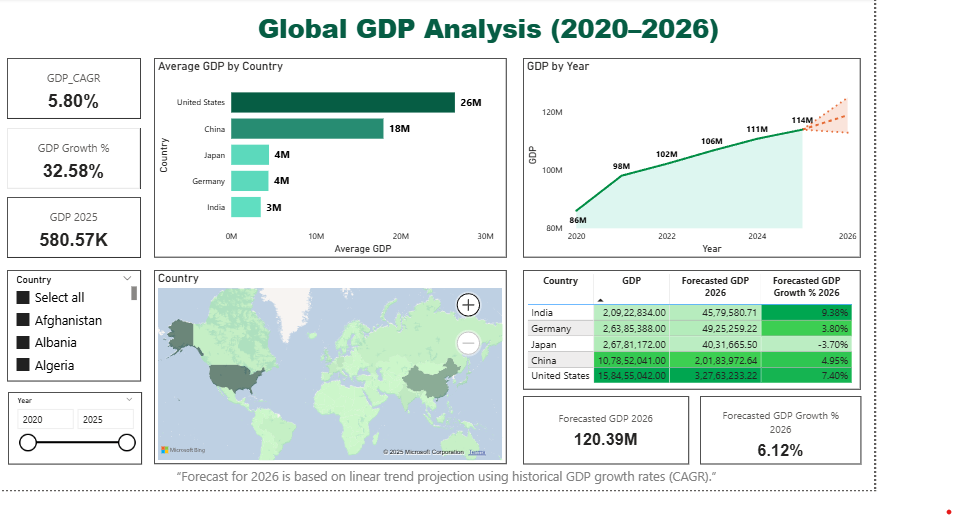

The page's visual inventory and layout, read from the dashboard file:
{"tool":"powerbi","page":{"name":"Dashboard","canvas":[1280,720],"ordinal":0},"visuals":[{"type":"slicer","fields":{"Values":["GDP.Country"]},"box":[9.6,397.9,196.2,163.3],"z":0},{"type":"filledMap","fields":{"Category":["GDP.Country"]},"box":[225,397.9,516,284],"z":1000},{"type":"slicer","fields":{"Values":["GDP.Year.Variation.Date Hierarchy.Year1"]},"box":[11,576.3,196.2,105.7],"z":2000},{"type":"textbox","box":[364.4,13.5,700.7,74.6],"z":3000},{"type":"lineChart","fields":{"Y":["Sum(GDP.Value)"],"Category":["GDP.Year.Variation.Date Hierarchy.Year"]},"box":[765.5,88,494,292.3],"z":4000},{"type":"cardVisual","fields":{"Data":["Avg(GDP.Value)"]},"box":[9.8,291,195.7,89.3],"z":5000},{"type":"cardVisual","fields":{"Data":["GDP.GDP Growth %"]},"box":[9.8,189.5,195.7,89.3],"z":6000},{"type":"cardVisual","fields":{"Data":["GDP.GDP Compound Annual Growth Rate"]},"box":[9.8,88,195.7,89.3],"z":7000},{"type":"barChart","fields":{"Category":["GDP.Country"],"Y":["Avg(GDP.Value)"]},"box":[225,88,516,292.3],"z":8000},{"type":"cardVisual","fields":{"Data":["GDP.Forecasted_GDP_2026"]},"box":[765.7,581.8,242.9,100.2],"z":9000},{"type":"cardVisual","fields":{"Data":["GDP.Forecasted_GDP_Growth_2026"]},"box":[1023.7,581.8,236,100.2],"z":10000},{"type":"tableEx","fields":{"Values":["GDP.Country","Sum(GDP.Value)","GDP.Forecasted_GDP_2026","GDP.Forecasted_GDP_Growth_2026_percentage"]},"box":[765.5,397.4,494,174.9],"z":11000},{"type":"textbox","box":[253.9,682,852.1,38.4],"z":12000}]}

Visuals, with their boxes in screenshot pixels (x1, y1, x2, y2):
slicer - GDP.Country: [4,266,138,378]
filledMap - GDP.Country: [151,266,503,460]
slicer - GDP.Year.Variation.Date Hierarchy.Year1: [5,388,139,460]
textbox: [246,4,724,55]
lineChart - Sum(GDP.Value) x GDP.Year.Variation.Date Hierarchy.Year: [520,55,856,254]
cardVisual - Avg(GDP.Value): [4,193,138,254]
cardVisual - GDP.GDP Growth %: [4,124,138,185]
cardVisual - GDP.GDP Compound Annual Growth Rate: [4,55,138,116]
barChart - GDP.Country x Avg(GDP.Value): [151,55,503,254]
cardVisual - GDP.Forecasted_GDP_2026: [520,392,685,460]
cardVisual - GDP.Forecasted_GDP_Growth_2026: [696,392,857,460]
tableEx - GDP.Country x Sum(GDP.Value): [520,266,856,385]
textbox: [171,460,752,486]
